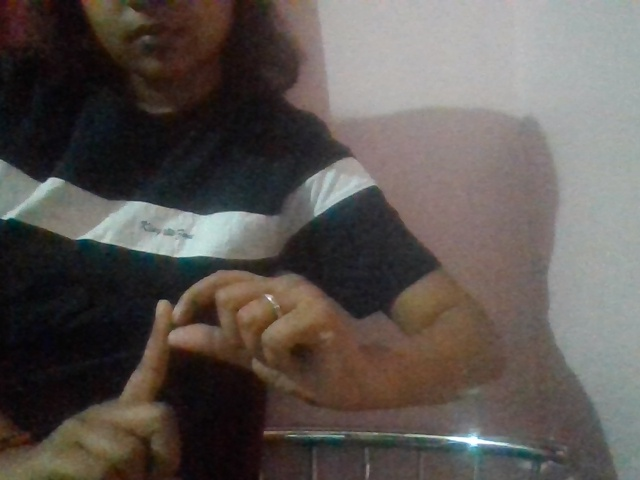P: (19, 238, 400, 480)
